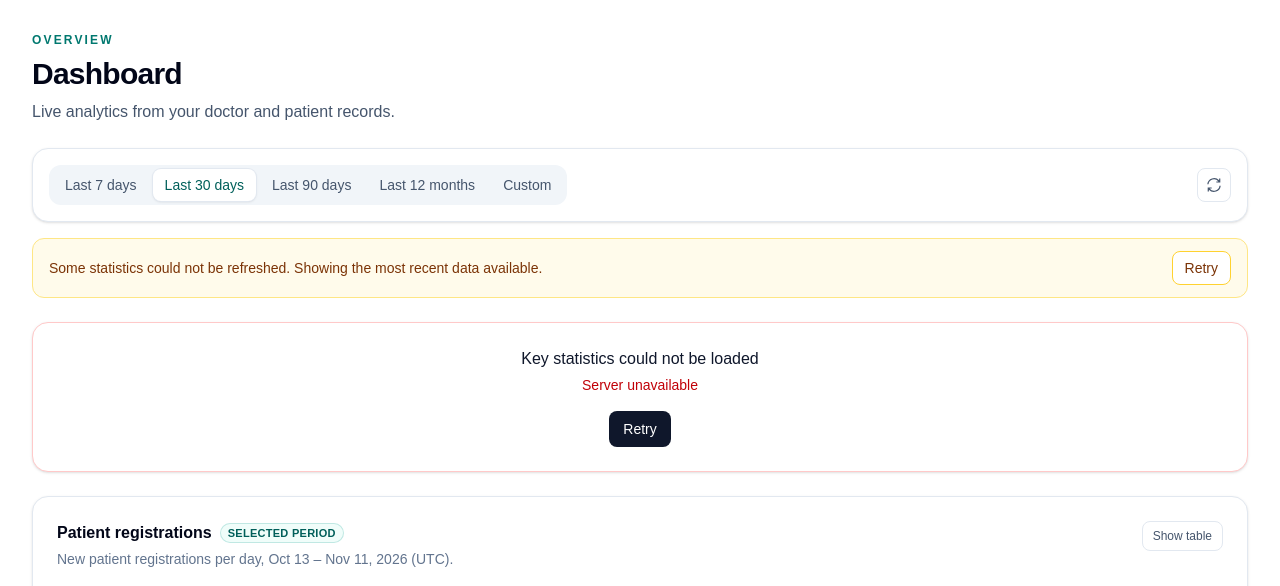
DashboardManager › shows a statistics error with retry when the summary fails
The width and height of the screenshot is (1280, 586).
Check: the text "Key statistics could not be loaded" is shown, box x1=521 y1=350 x2=759 y2=367
Click the 1st button "Retry".
click(1201, 268)  # box x1=1172 y1=251 x2=1231 y2=285
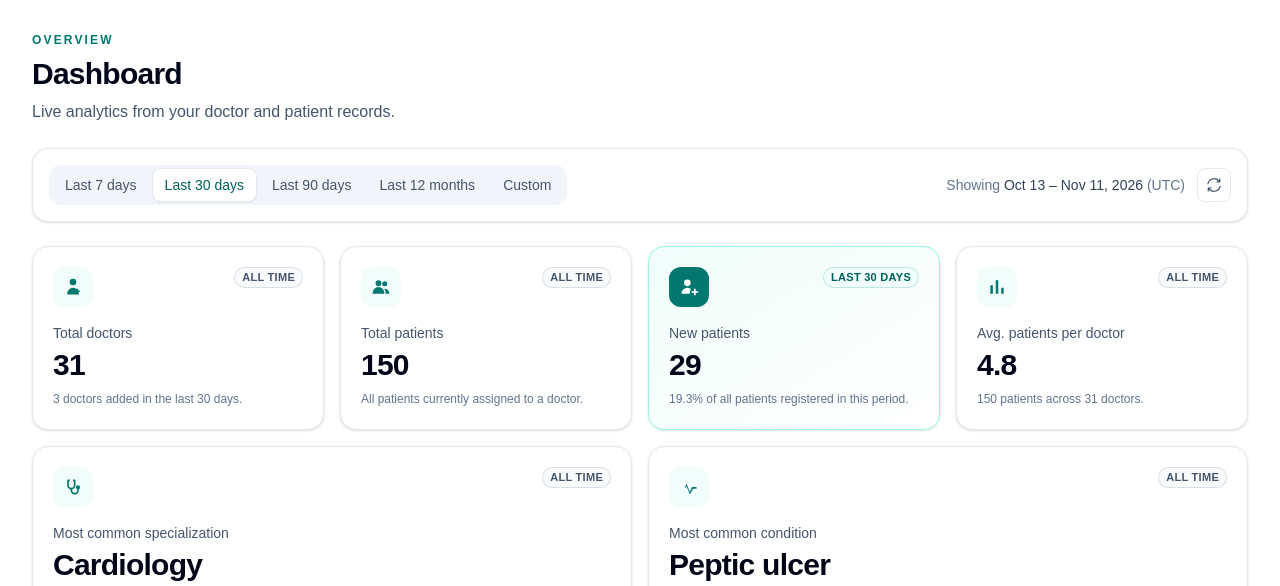
Check: the text "31" is shown, box x1=53 y1=348 x2=85 y2=381
